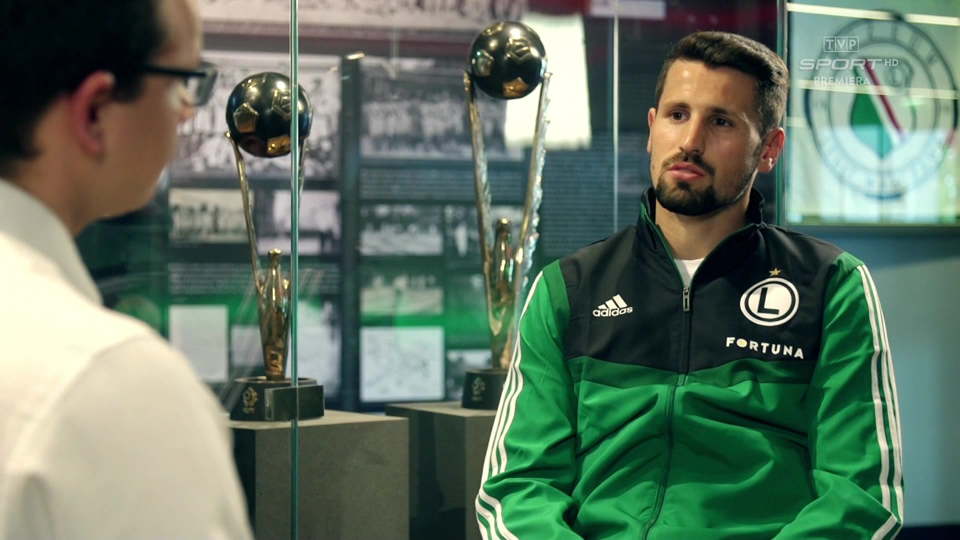Adidas: (592, 291, 634, 319)
